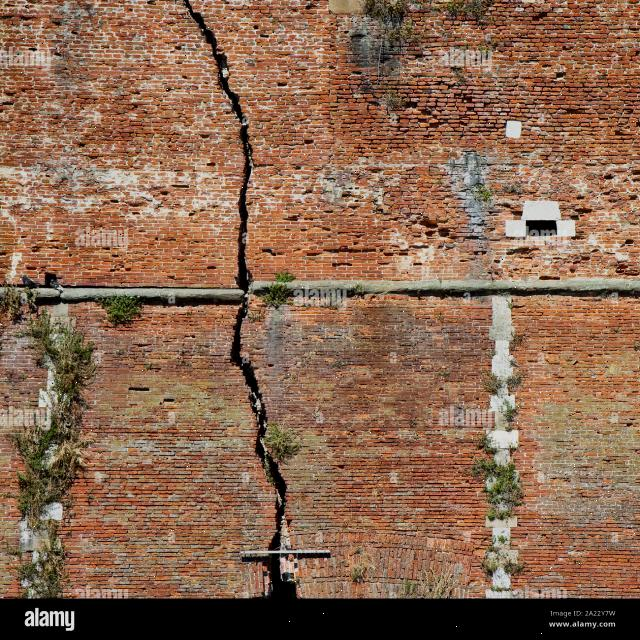crack: (179, 0, 300, 597)
vegetation: (1, 303, 98, 598), (352, 0, 497, 109), (96, 293, 146, 327)
